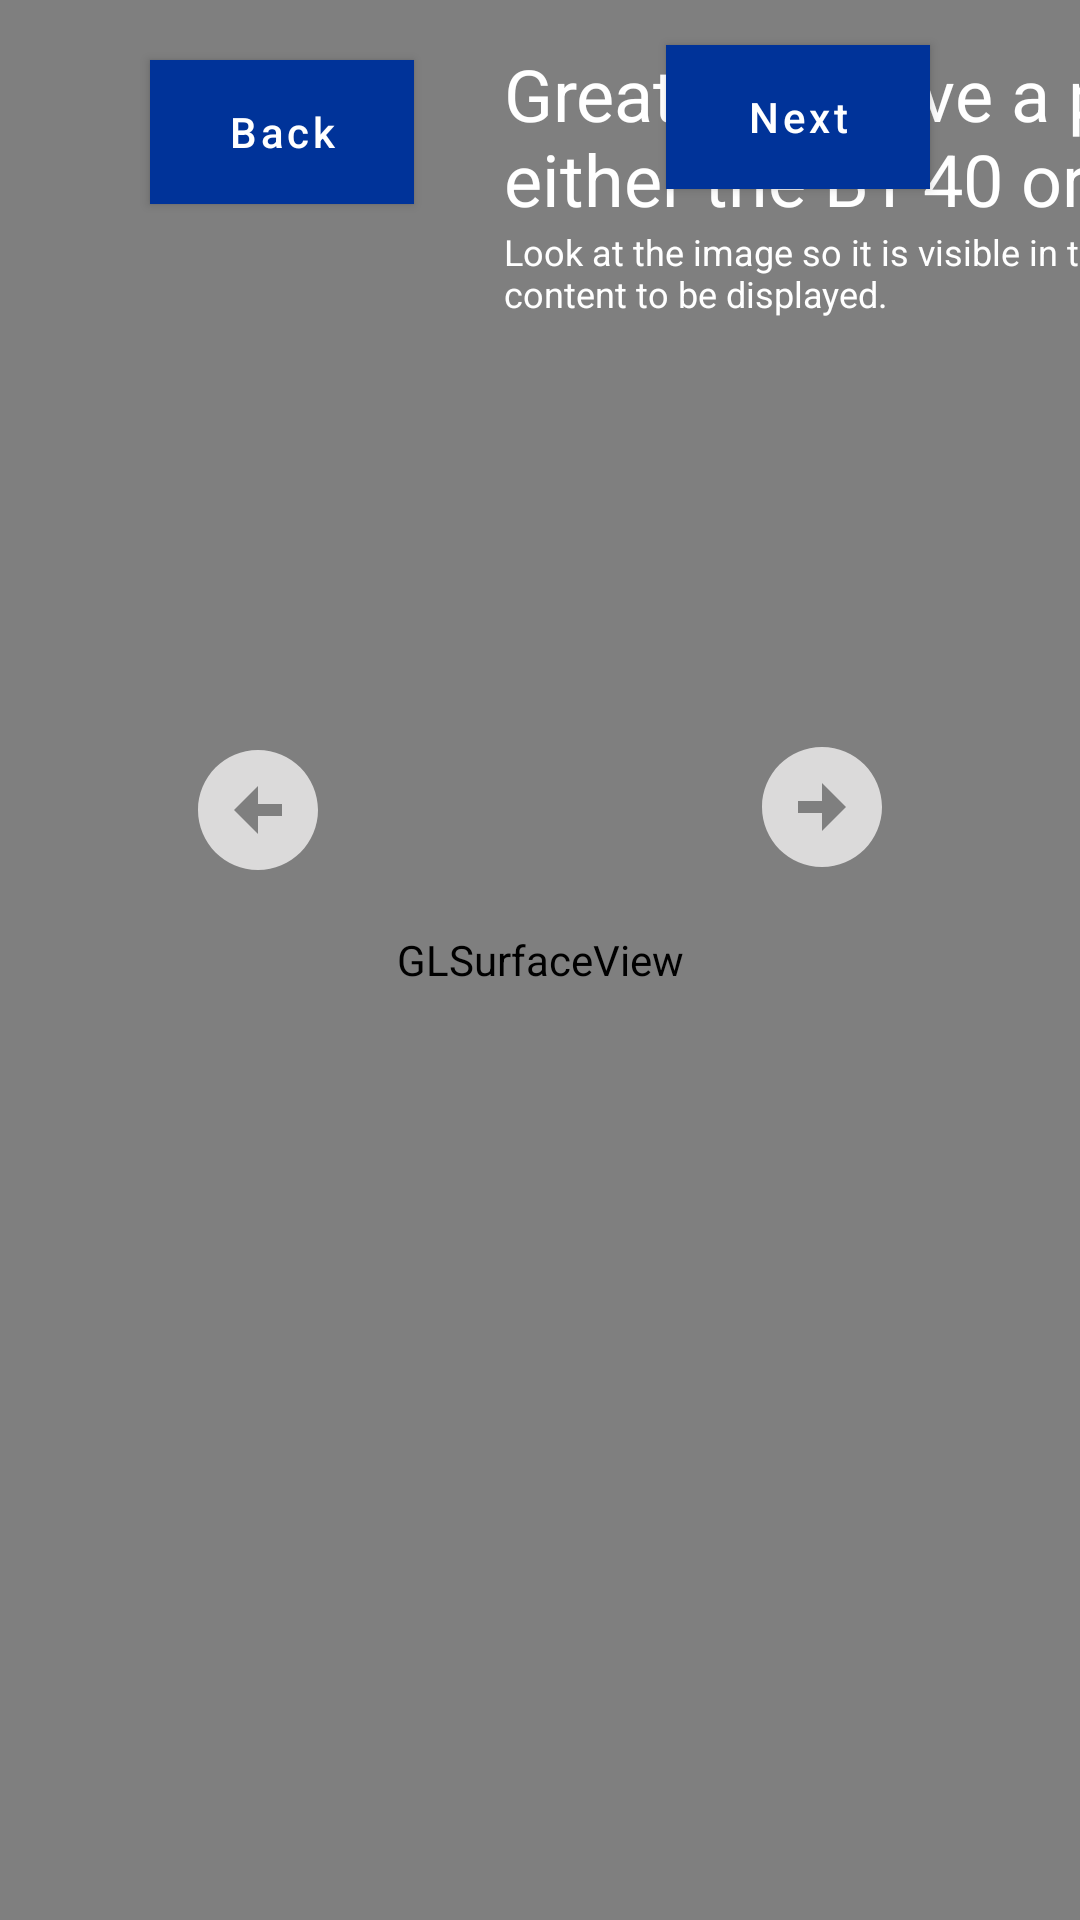

Where icons sit on this 1080px×1920px app screen, as (x1, y1, x2, y2):
arrow circle left: (198, 750, 318, 870)
arrow circle right: (762, 747, 882, 867)
